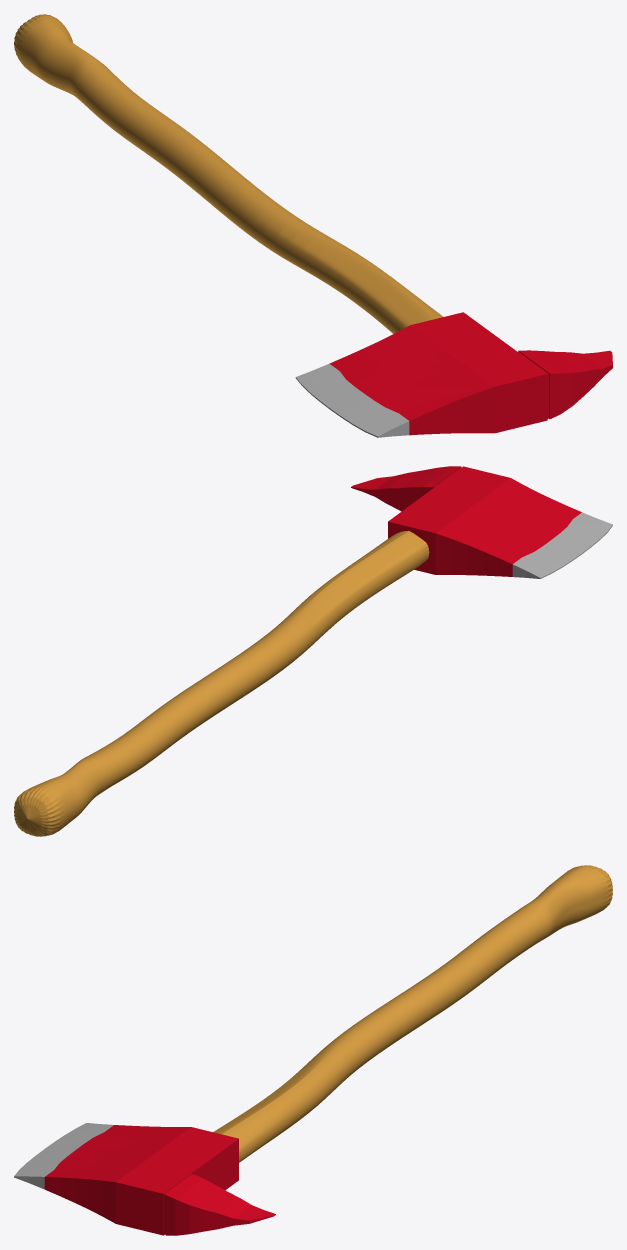
The model's file is Axe.fbx.
3 renders of one model, top to bottom at view 1: azimuth 30°, elevation 25°; view 2: azimuth 150°, elevation 25°; view 3: azimuth 330°, elevation 25°, orthographic. The views are drawn at different scales.
Parts seen in each view (by area): view 1: Cube; view 2: Cube; view 3: Cube.
Boxes of the visible parts, x1,y1,x2,y2 form: Cube: (14,14,612,437); Cube: (14,466,612,836); Cube: (14,865,612,1235).
Bounding box in the file's own units: 83.12 × 15.89 × 269.
